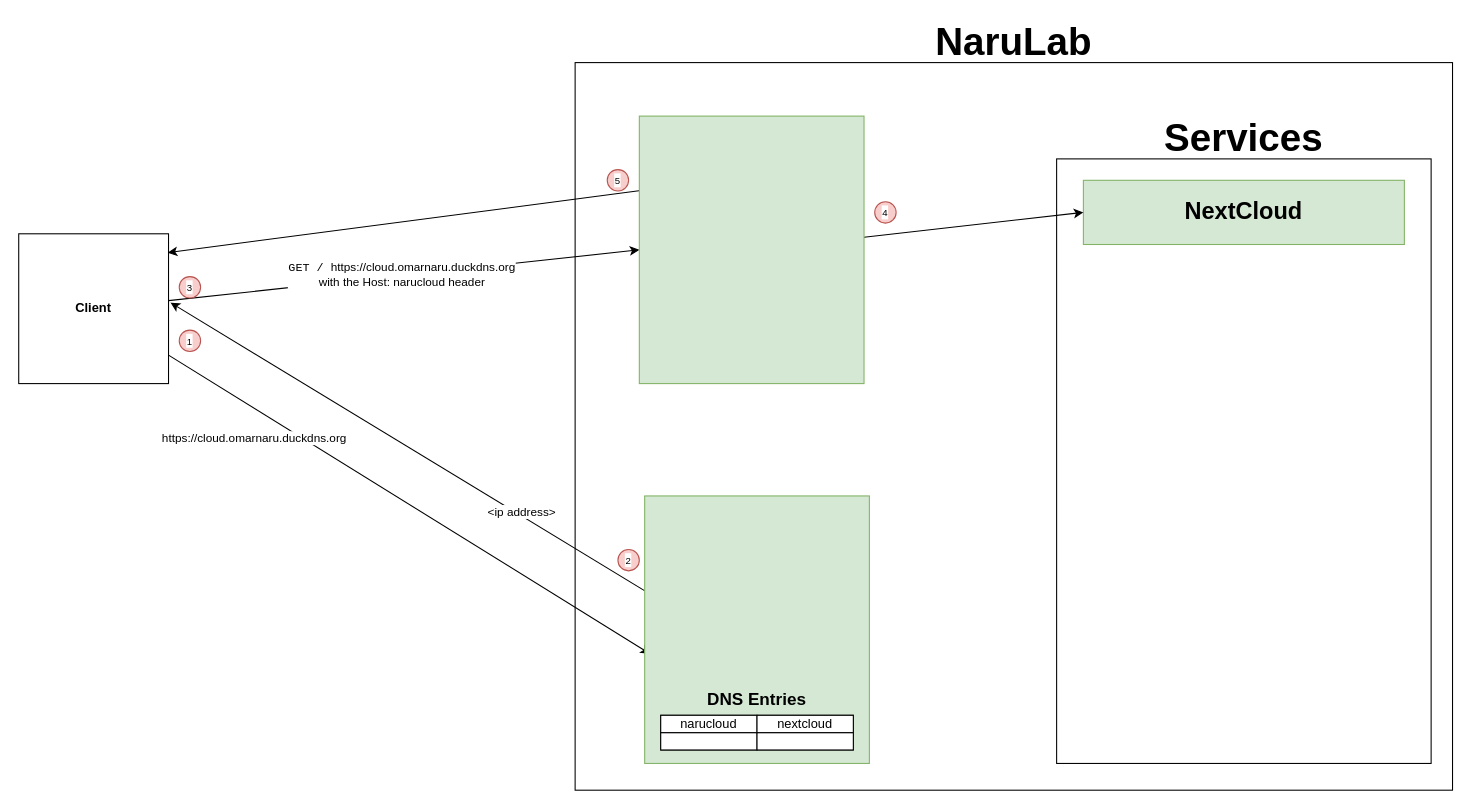
The diagram is 1471 pixels wide and 809 high, and some of its shapes have lost their labels. The box of each missing label's shape, as (x1, y1, x2, y2) in pixels:
Nginx Proxy Manager: (638, 115, 864, 384)
PI-Hole Works as DNS Server: (644, 495, 869, 763)
